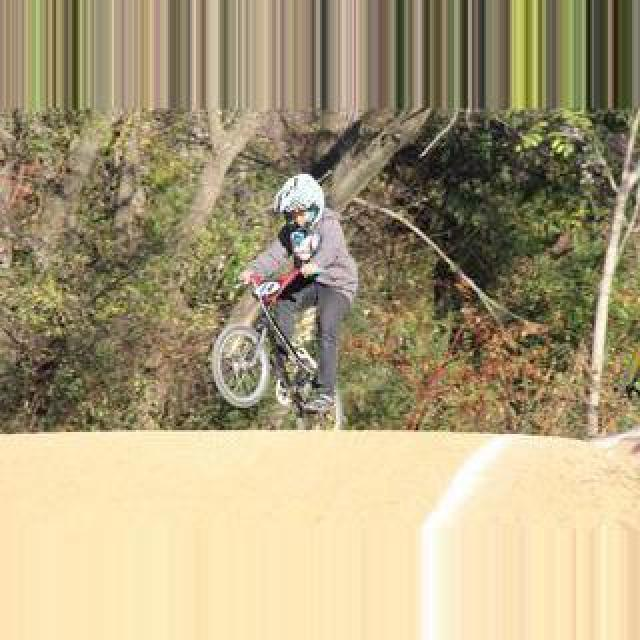MC-Bike: (244, 170, 358, 418)
Person: (210, 271, 348, 429)
